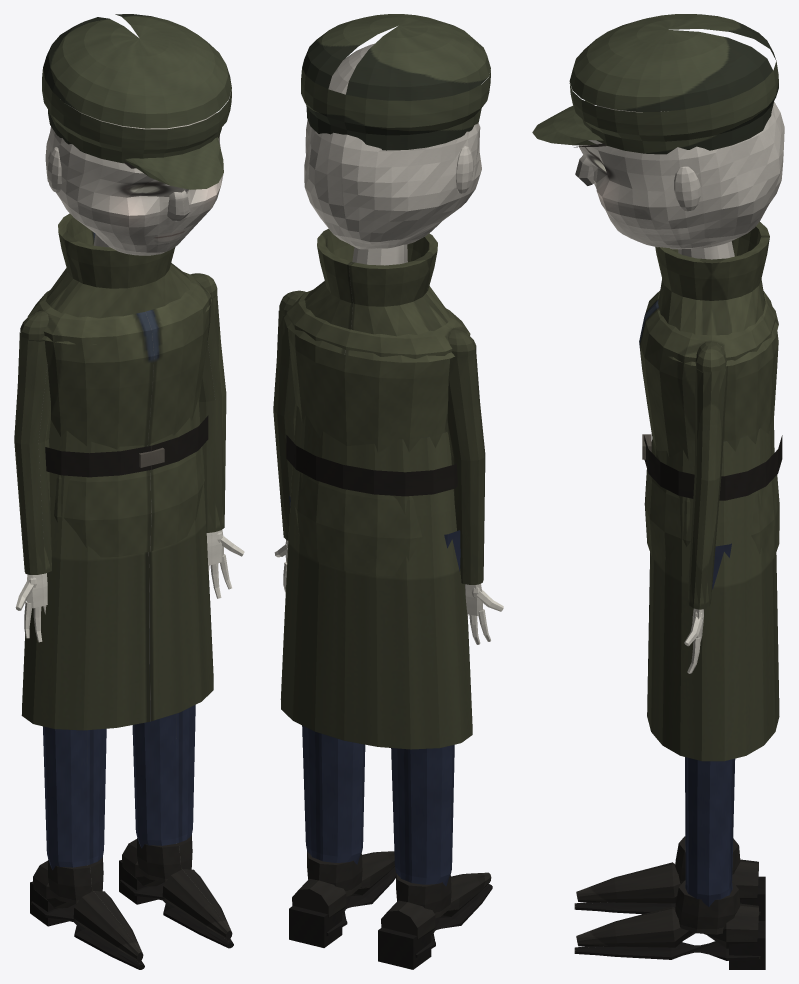
File: fig_4.glb
3 views of the same model, side by side, from view 1: azimuth 30°, elevation 25°; view 2: azimuth 150°, elevation 25°; view 3: azimuth 270°, elevation 25° (orthographic).
Parts seen in each view (by area): view 1: figure; view 2: figure; view 3: figure.
Part boxes in pixels (x1=…): figure: x1=14, y1=14, x2=244, y2=969; figure: x1=273, y1=14, x2=503, y2=969; figure: x1=532, y1=14, x2=784, y2=969.
Size of the model in its own units: 0.7329 by 2.74 by 0.6888.
2 materials, 2 textured.
